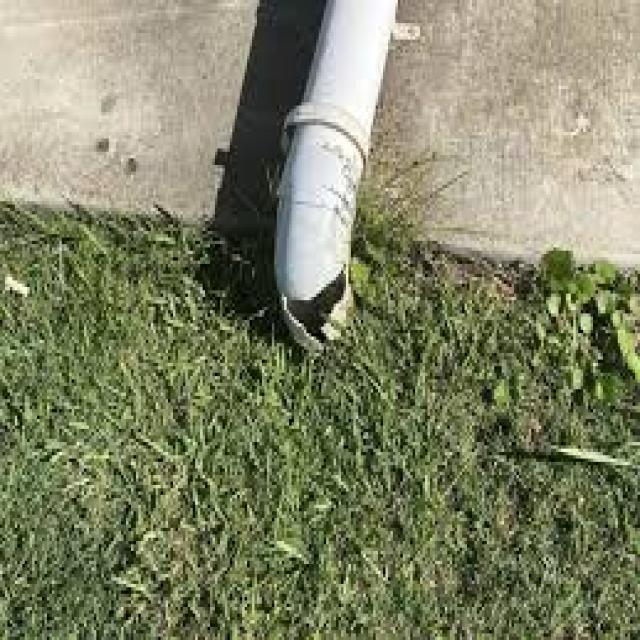crack: (289, 264, 348, 345)
